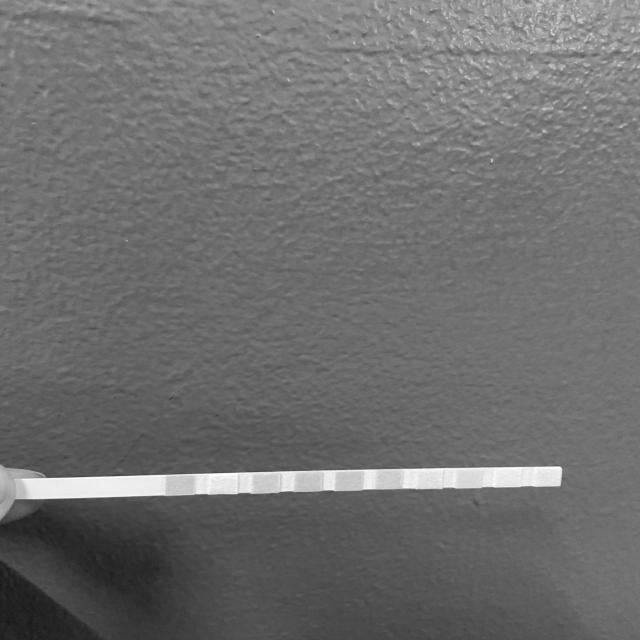Bilirubin: (210, 475, 238, 494)
Blood: (335, 471, 363, 490)
Glucose: (167, 475, 195, 495)
Ketone: (252, 473, 280, 492)
Leukocytes: (538, 467, 560, 486)
Nitrite: (495, 468, 520, 487)
Protein: (416, 469, 442, 488)
SpGravity: (295, 472, 322, 491)
Urobilinogen: (457, 469, 482, 488)
background: (0, 0, 640, 640)
pH: (376, 470, 402, 489)
strip: (30, 467, 560, 499)
